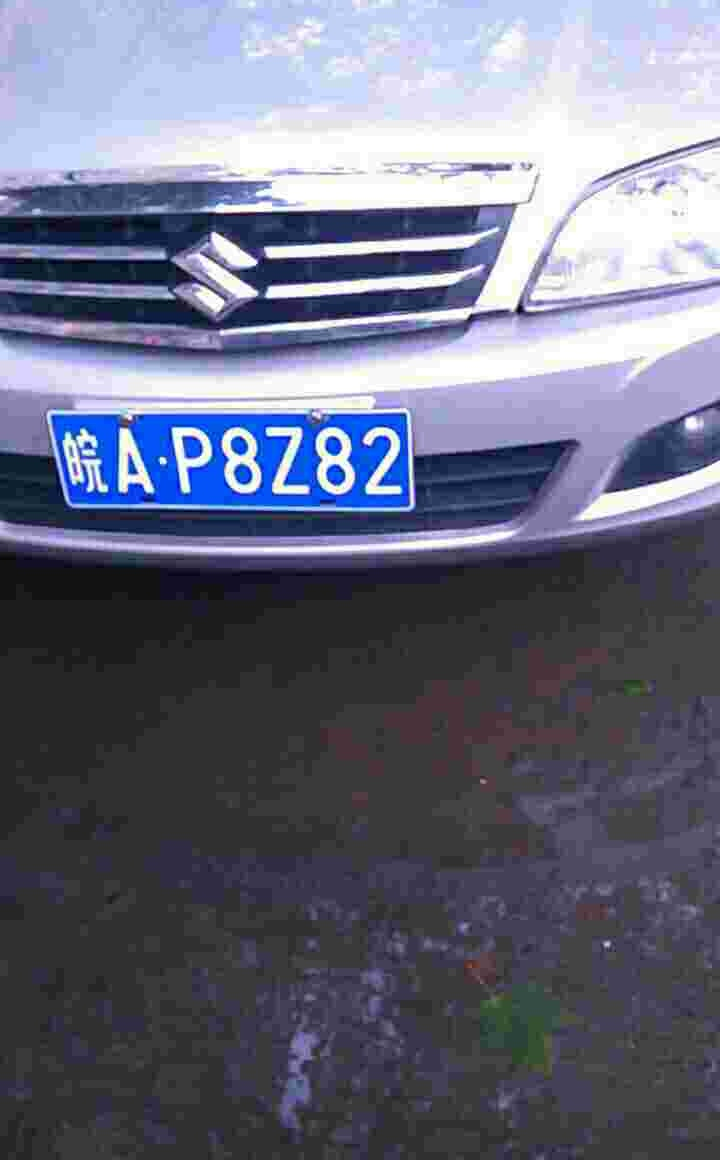license_plate: (52, 397, 427, 512)
